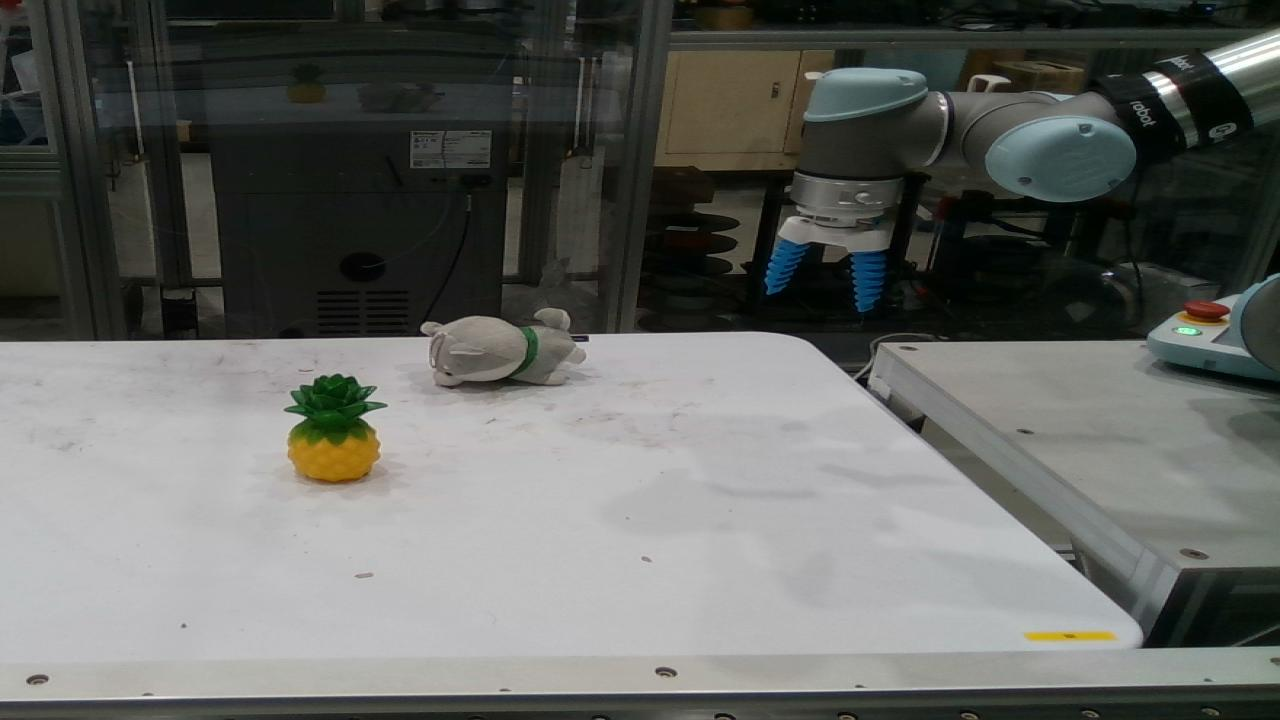UR5: (778, 24, 1279, 255), (1230, 273, 1279, 374)
gripper_left: (767, 238, 809, 296)
gripper_right: (851, 253, 884, 312)
target: (421, 308, 587, 388), (283, 373, 390, 482)
